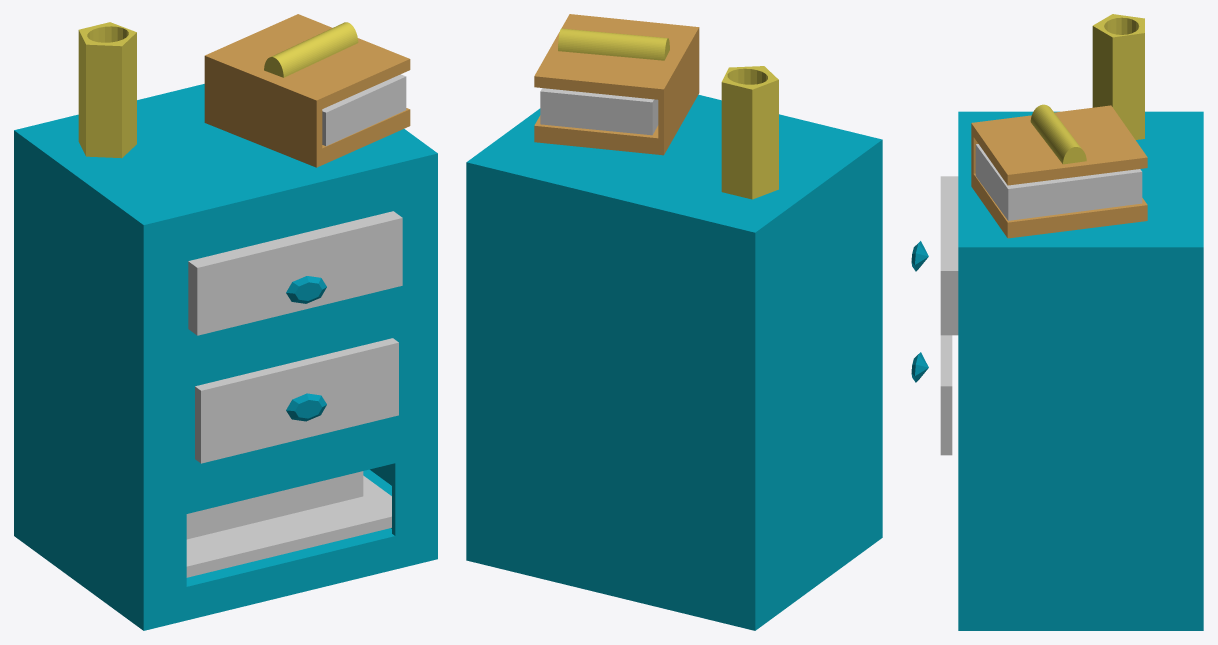
File: book.glb
3 views of the same model, side by side, from view 1: azimuth 30°, elevation 25°; view 2: azimuth 150°, elevation 25°; view 3: azimuth 270°, elevation 25° (orthographic). The views are drawn at different scales.
Visible parts, largest first — view 1: Mesh_Mesh_head_geo.001_lambert2SG.001; view 2: Mesh_Mesh_head_geo.001_lambert2SG.001; view 3: Mesh_Mesh_head_geo.001_lambert2SG.001.
Part boxes in pixels (x1,y1,x2,y2): Mesh_Mesh_head_geo.001_lambert2SG.001: (14, 14, 437, 630); Mesh_Mesh_head_geo.001_lambert2SG.001: (466, 14, 882, 630); Mesh_Mesh_head_geo.001_lambert2SG.001: (911, 14, 1203, 630).
Size of the model in its own units: 55 by 93 by 50.
